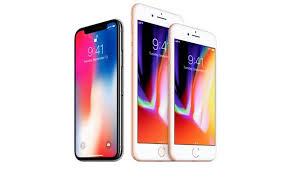iphone: (70, 13, 127, 163), (132, 2, 178, 164), (167, 24, 219, 161)
iphone10: (70, 14, 127, 164), (131, 3, 177, 165), (168, 26, 220, 163)
